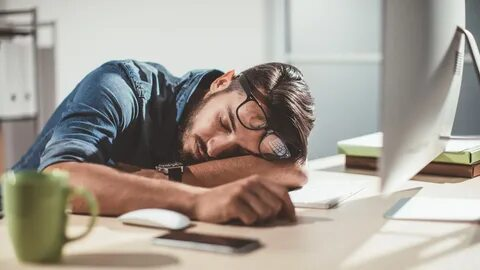sleep: (3, 58, 316, 209)
